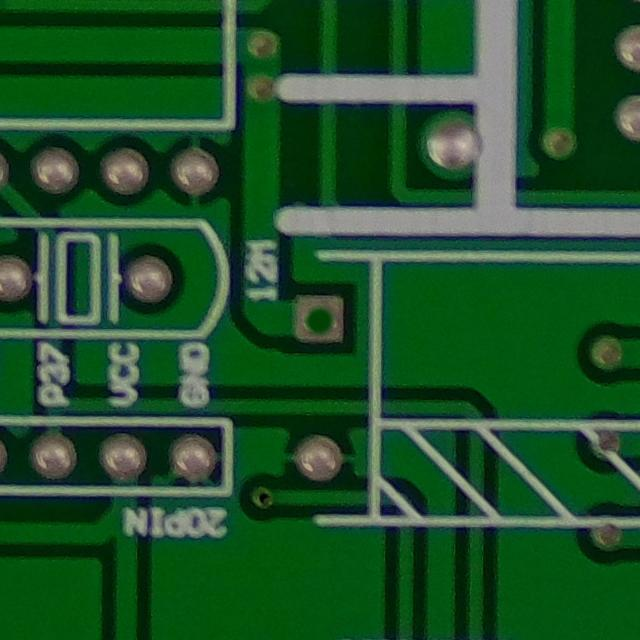missing_hole: (289, 289, 353, 355)
